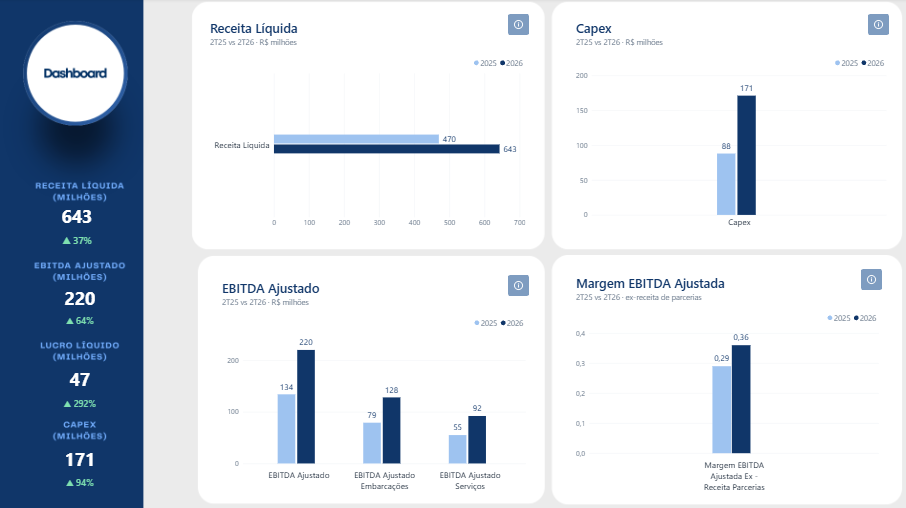

This screenshot's page, from the dashboard's own definition file:
{"tool":"powerbi","page":{"name":"Informações do Trimestre","canvas":[1920,1080],"ordinal":1},"visuals":[{"type":"clusteredBarChart","title":"Receita Líquida","fields":{"Category":["Receita.Indicador"],"Series":["Receita.Período - Calen.Variation.Hierarquia de datas.Ano"],"Y":["Sum(Receita.Valor)"]},"box":[428,22,710,476],"z":0},{"type":"clusteredColumnChart","title":"Capex","fields":{"Category":["Capex.Indicador"],"Series":["Capex.Período - Calen.Variation.Hierarquia de datas.Ano"],"Y":["Sum(Capex.Valor)"]},"box":[1192,22,700,476],"z":1000},{"type":"clusteredColumnChart","title":"EBITDA Ajustado","fields":{"Category":["EBITDA.Indicador"],"Series":["EBITDA.Período - Calen.Variation.Hierarquia de datas.Ano"],"Y":["Sum(EBITDA.Valor)"]},"box":[452,568,686,480],"z":2000},{"type":"clusteredColumnChart","title":"Margem EBITDA Ajustada","fields":{"Category":["Margem EBITDA.Indicador"],"Series":["Margem EBITDA.Período - Calen.Variation.Hierarquia de datas.Ano"],"Y":["Sum(Margem EBITDA.Valor)"]},"box":[1192,556,684,492],"z":3000},{"type":"cardVisual","fields":{"Data":["Medidas.Capex 2026"]},"box":[113,941.9,134,90],"z":4000},{"type":"cardVisual","fields":{"Data":["Medidas.Lucro 2026"]},"box":[113,770.2,134,102.6],"z":5000},{"type":"cardVisual","fields":{"Data":["Medidas.EBITDA 2026"]},"box":[113,602.8,134,92.1],"z":6000},{"type":"cardVisual","fields":{"Data":["Medidas.Receita 2026"]},"box":[113,433.3,121.4,90],"z":7000},{"type":"actionButton","box":[1076,34,44,44],"z":19000},{"type":"actionButton","box":[1830,34,44,44],"z":19001},{"type":"actionButton","box":[1076,580,44,44],"z":19002},{"type":"actionButton","box":[1814,568,44,44],"z":19003}]}

Visuals, with their boxes in screenshot pixels (x1, y1, x2, y2), scaled from the page's 1920x1080 canvas onto the 906x508 screenshot:
"Receita Líquida" clusteredBarChart: (202,10,537,234)
"Capex" clusteredColumnChart: (562,10,893,234)
"EBITDA Ajustado" clusteredColumnChart: (213,267,537,493)
"Margem EBITDA Ajustada" clusteredColumnChart: (562,262,885,493)
cardVisual - Medidas.Capex 2026: (53,443,117,485)
cardVisual - Medidas.Lucro 2026: (53,362,117,411)
cardVisual - Medidas.EBITDA 2026: (53,284,117,327)
cardVisual - Medidas.Receita 2026: (53,204,111,246)
actionButton: (508,16,528,37)
actionButton: (864,16,884,37)
actionButton: (508,273,528,294)
actionButton: (856,267,877,288)
